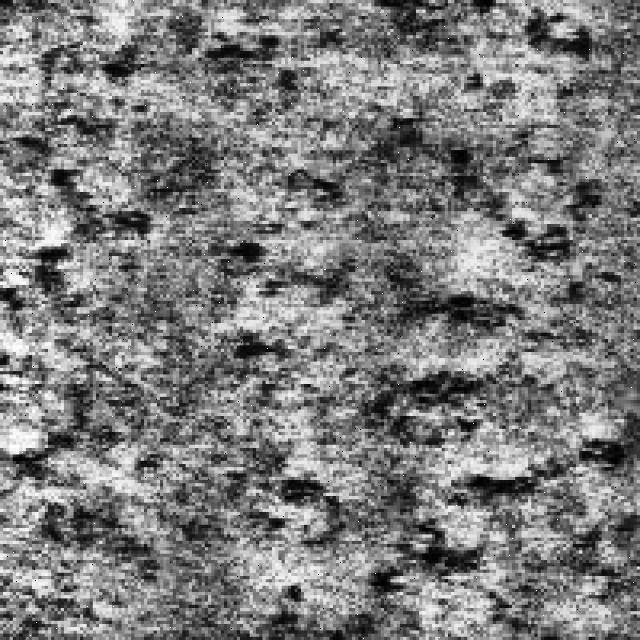Crazing: (256, 141, 605, 573)
